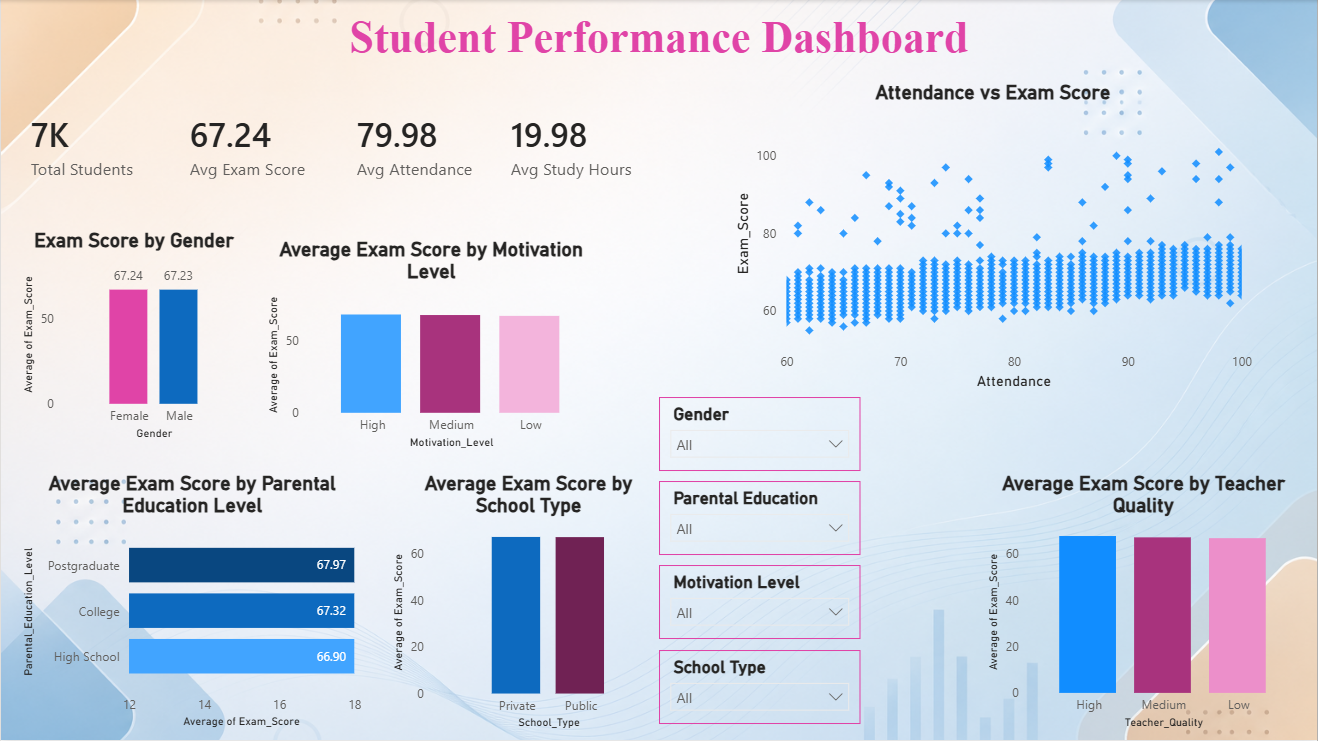

What the dashboard file says about the page in this screenshot:
{"tool":"powerbi","page":{"name":"Page 1","canvas":[1280,720],"ordinal":0},"visuals":[{"type":"cardVisual","fields":{"Data":["StudentPerformanceFactors_Cleaned.Total Students"]},"box":[0,78,171.8,126.4],"z":0},{"type":"cardVisual","title":"Average Exam Score","fields":{"Data":["Avg(StudentPerformanceFactors_Cleaned.Exam_Score)"]},"box":[155,78.2,172.7,126.4],"z":1000},{"type":"cardVisual","title":"Average Study Hours","fields":{"Data":["Avg(StudentPerformanceFactors_Cleaned.Hours_Studied)"]},"box":[466.9,77.8,182.9,126.4],"z":2000},{"type":"cardVisual","title":"Average Attendance(%)","fields":{"Data":["Avg(StudentPerformanceFactors_Cleaned.Attendance)"]},"box":[317.3,78.2,171.8,126.4],"z":3000},{"type":"clusteredColumnChart","title":"Exam Score by Gender","fields":{"Category":["StudentPerformanceFactors_Cleaned.Gender"],"Y":["Avg(StudentPerformanceFactors_Cleaned.Exam_Score)"]},"box":[16.4,221.8,225.5,210],"z":4000},{"type":"textbox","box":[0,7,1280,64],"z":5000},{"type":"scatterChart","title":"Attendance vs Exam Score","fields":{"X":["StudentPerformanceFactors_Cleaned.Attendance"],"Y":["StudentPerformanceFactors_Cleaned.Exam_Score"]},"box":[708.1,77.8,513.6,305.4],"z":6000},{"type":"clusteredBarChart","title":"Average Exam Score by Parental Education Level","fields":{"Y":["Avg(StudentPerformanceFactors_Cleaned.Exam_Score)"],"Category":["StudentPerformanceFactors_Cleaned.Parental_Education_Level"]},"box":[16.4,458.2,339.1,254.5],"z":7000},{"type":"clusteredColumnChart","title":"Average Exam Score by School Type","fields":{"Category":["StudentPerformanceFactors_Cleaned.School_Type"],"Y":["Avg(StudentPerformanceFactors_Cleaned.Exam_Score)"]},"box":[376.4,458.2,273.6,255.5],"z":8000},{"type":"clusteredColumnChart","title":"Average Exam Score by Motivation Level","fields":{"Category":["StudentPerformanceFactors_Cleaned.Motivation_Level"],"Y":["Avg(StudentPerformanceFactors_Cleaned.Exam_Score)"]},"box":[254.5,230.9,327.3,210],"z":9000},{"type":"slicer","fields":{"Values":["StudentPerformanceFactors_Cleaned.Gender"]},"box":[640,386.1,195.5,72],"z":9001},{"type":"slicer","fields":{"Values":["StudentPerformanceFactors_Cleaned.School_Type"]},"box":[640,632.2,195.5,72],"z":9002},{"type":"slicer","fields":{"Values":["StudentPerformanceFactors_Cleaned.Motivation_Level"]},"box":[640,549.5,195.5,72],"z":9003},{"type":"slicer","fields":{"Values":["StudentPerformanceFactors_Cleaned.Parental_Education_Level"]},"box":[640,467.8,195.5,72],"z":9004},{"type":"clusteredColumnChart","title":"Average Exam Score by Teacher Quality","fields":{"Category":["StudentPerformanceFactors_Cleaned.Teacher_Quality"],"Y":["Avg(StudentPerformanceFactors_Cleaned.Exam_Score)"]},"box":[955.1,458.1,312.2,254.8],"z":9005}]}

Visuals, with their boxes in screenshot pixels (x1, y1, x2, y2), scaled from the page's 1280x720 canvas onto the 1318x741 screenshot:
cardVisual - StudentPerformanceFactors_Cleaned.Total Students: bbox(0, 80, 177, 210)
"Average Exam Score" cardVisual: bbox(160, 80, 337, 211)
"Average Study Hours" cardVisual: bbox(481, 80, 669, 210)
"Average Attendance(%)" cardVisual: bbox(327, 80, 504, 211)
"Exam Score by Gender" clusteredColumnChart: bbox(17, 228, 249, 444)
textbox: bbox(0, 7, 1317, 73)
"Attendance vs Exam Score" scatterChart: bbox(729, 80, 1258, 394)
"Average Exam Score by Parental Education Level" clusteredBarChart: bbox(17, 472, 366, 733)
"Average Exam Score by School Type" clusteredColumnChart: bbox(388, 472, 669, 735)
"Average Exam Score by Motivation Level" clusteredColumnChart: bbox(262, 238, 599, 454)
slicer - StudentPerformanceFactors_Cleaned.Gender: bbox(659, 397, 860, 471)
slicer - StudentPerformanceFactors_Cleaned.School_Type: bbox(659, 651, 860, 725)
slicer - StudentPerformanceFactors_Cleaned.Motivation_Level: bbox(659, 566, 860, 640)
slicer - StudentPerformanceFactors_Cleaned.Parental_Education_Level: bbox(659, 481, 860, 556)
"Average Exam Score by Teacher Quality" clusteredColumnChart: bbox(983, 471, 1305, 734)
